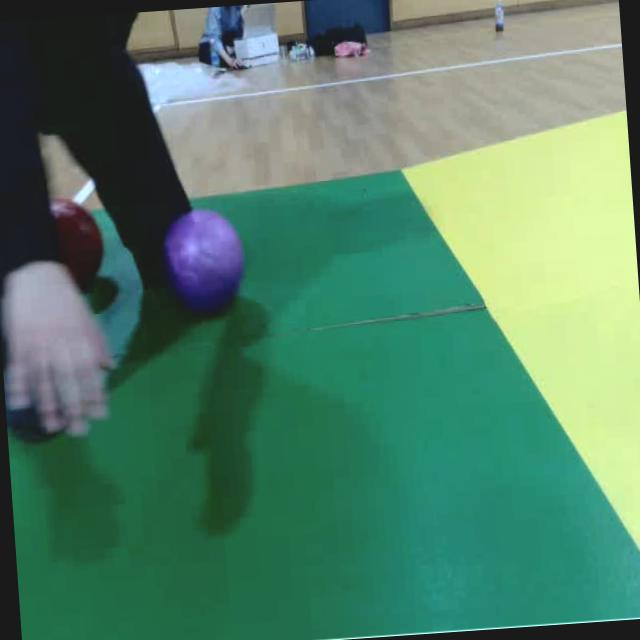purple_ball: (158, 204, 248, 317)
red_ball: (55, 192, 104, 294)
